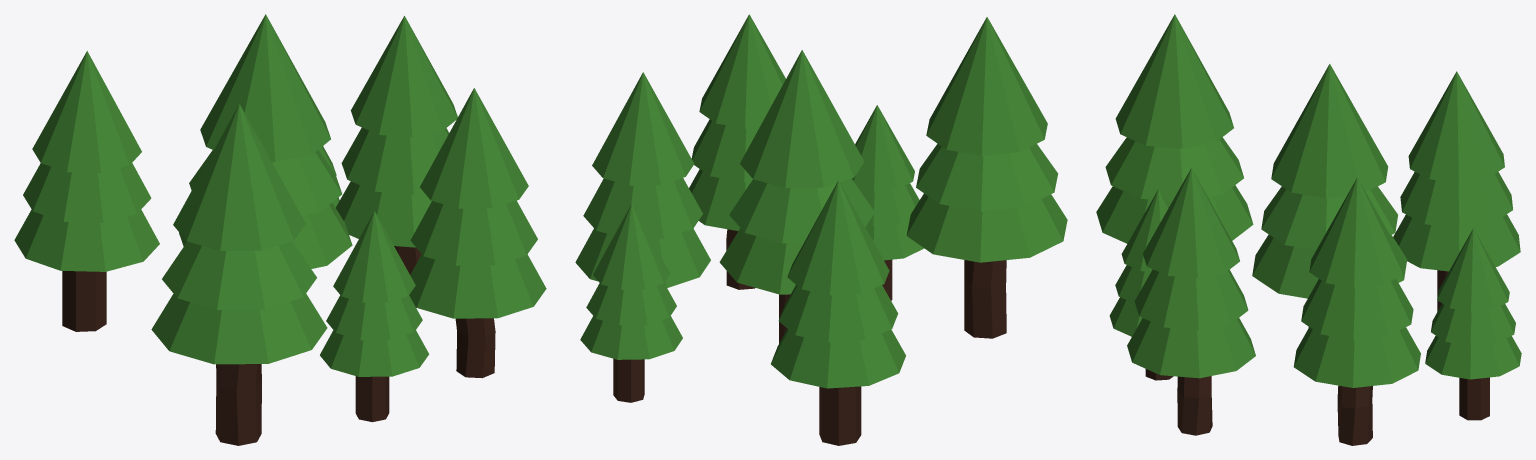
Rendered from Tile_Ambient_Forest.fbx.
3 views of the same model, side by side, from view 1: azimuth 30°, elevation 25°; view 2: azimuth 150°, elevation 25°; view 3: azimuth 270°, elevation 25° (orthographic). The views are drawn at different scales.
Parts seen in each view (by area): view 1: Forest; view 2: Forest; view 3: Forest.
Boxes of the visible parts, x1=… form: Forest: x1=14, y1=14, x2=546, y2=445; Forest: x1=575, y1=14, x2=1067, y2=445; Forest: x1=1096, y1=14, x2=1521, y2=445.
Size of the model in its own units: 179 by 142 by 180.
